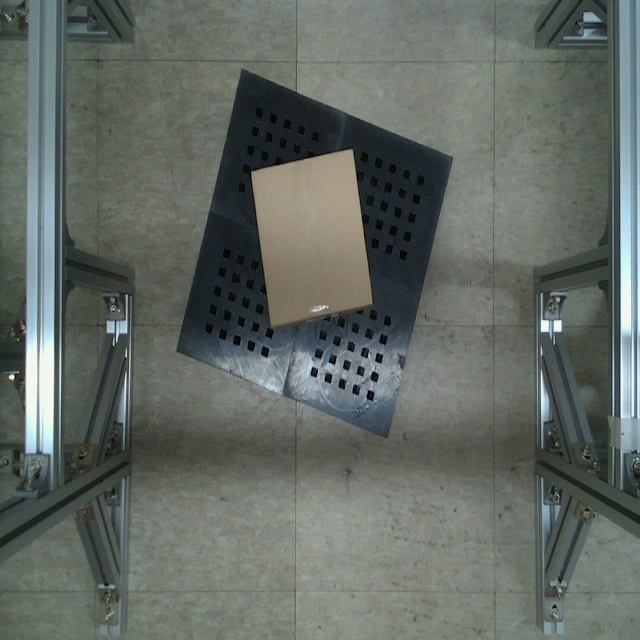box: (247, 145, 377, 330)
pallet: (164, 60, 458, 447)
